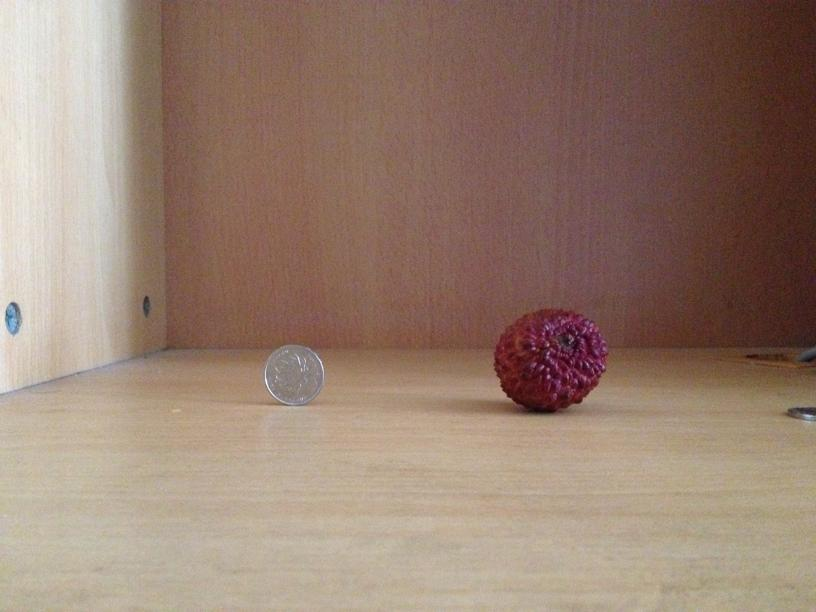coin: (263, 343, 325, 404)
litchi: (493, 308, 606, 412)
